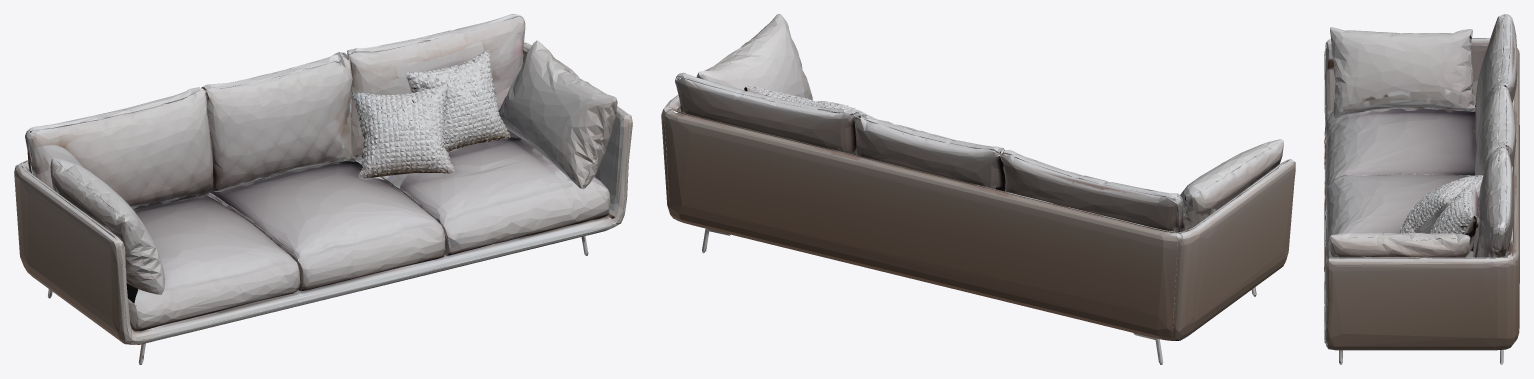
Rendered from edited_mesh.glb.
The picture shows the model from 3 angles, left to right: view 1: azimuth 30°, elevation 25°; view 2: azimuth 150°, elevation 25°; view 3: azimuth 270°, elevation 25°; orthographic projection. The views are drawn at different scales.
Visible parts, largest first — view 1: solid_001_wire; view 2: solid_001_wire; view 3: solid_001_wire.
Boxes of the visible parts, bbox=[...] form: solid_001_wire: bbox=[14, 14, 632, 364]; solid_001_wire: bbox=[661, 14, 1295, 364]; solid_001_wire: bbox=[1324, 14, 1519, 364].
Size of the model in its own units: 2 by 0.6387 by 0.7369.
1 material, 1 textured.
